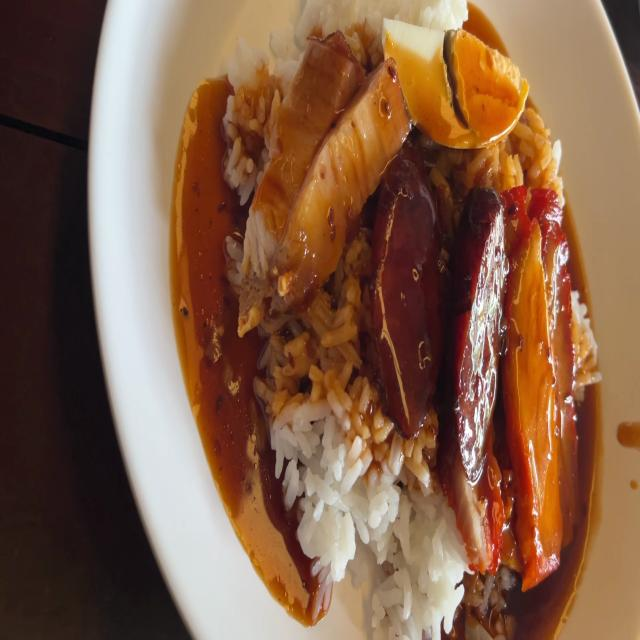red_pork_and_crispy_pork: (388, 23, 530, 146)
stir_fried_basil: (384, 160, 436, 436), (455, 200, 501, 484)
